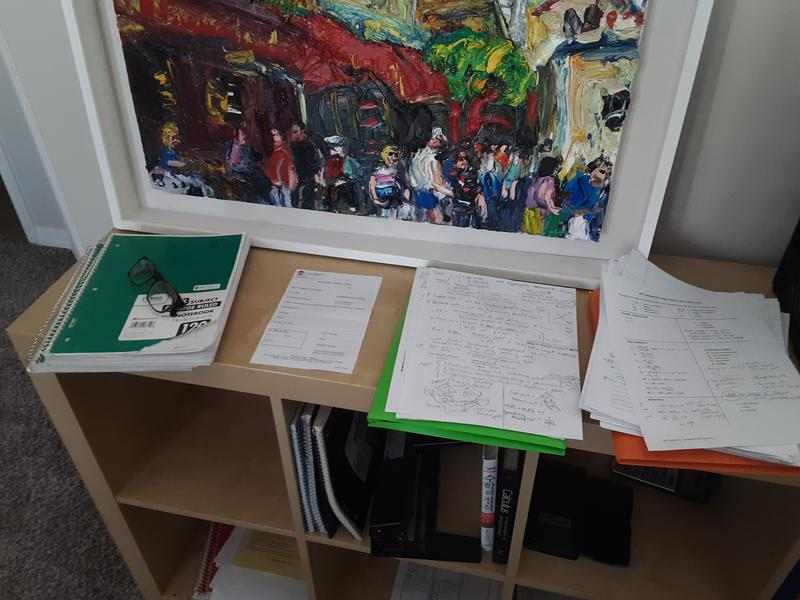glasses: (125, 252, 189, 319)
